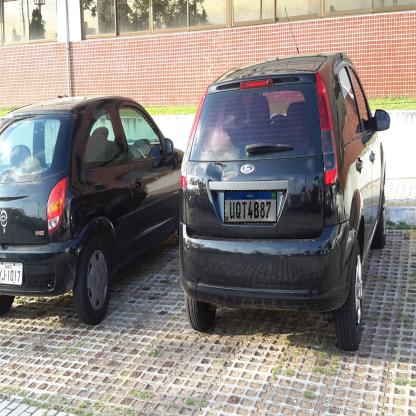PlacaM: (224, 190, 277, 224)
